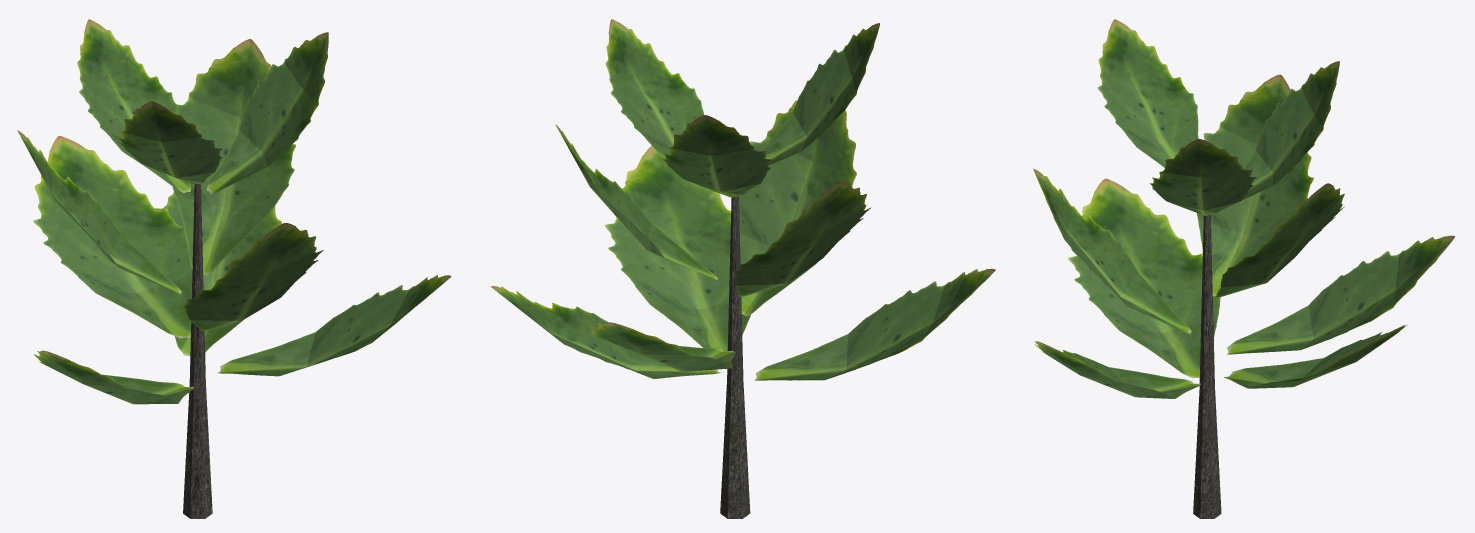
File: Vegetation-04.fbx
The picture shows the model from 3 angles, left to right: view 1: azimuth 30°, elevation 25°; view 2: azimuth 150°, elevation 25°; view 3: azimuth 270°, elevation 25°; orthographic projection. The views are drawn at different scales.
Visible parts, largest first — view 1: Vegetation-04; view 2: Vegetation-04; view 3: Vegetation-04.
Boxes of the visible parts, left/top/right/bottom form: Vegetation-04: left=17, top=19, right=451, bottom=518; Vegetation-04: left=491, top=19, right=995, bottom=518; Vegetation-04: left=1033, top=19, right=1454, bottom=518.
Size of the model in its own units: 0.9938 by 1.17 by 1.
